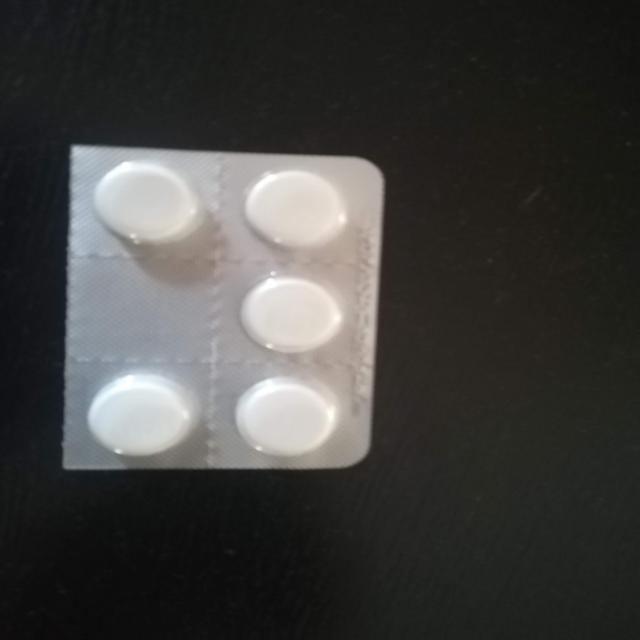Pill: (82, 156, 204, 252), (220, 271, 346, 356), (230, 169, 355, 252), (228, 378, 348, 462), (84, 374, 200, 455)
